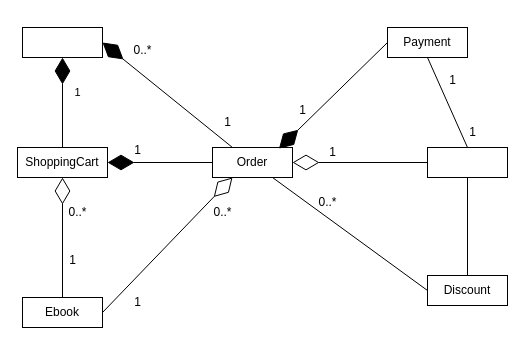
The diagram is 525 pixels wide and 356 high, and some of its shapes have lost their labels. The centre of each missing label's shape, as x and y in pixels:
Customer: the point at 62,42
Invoice: the point at 467,162
